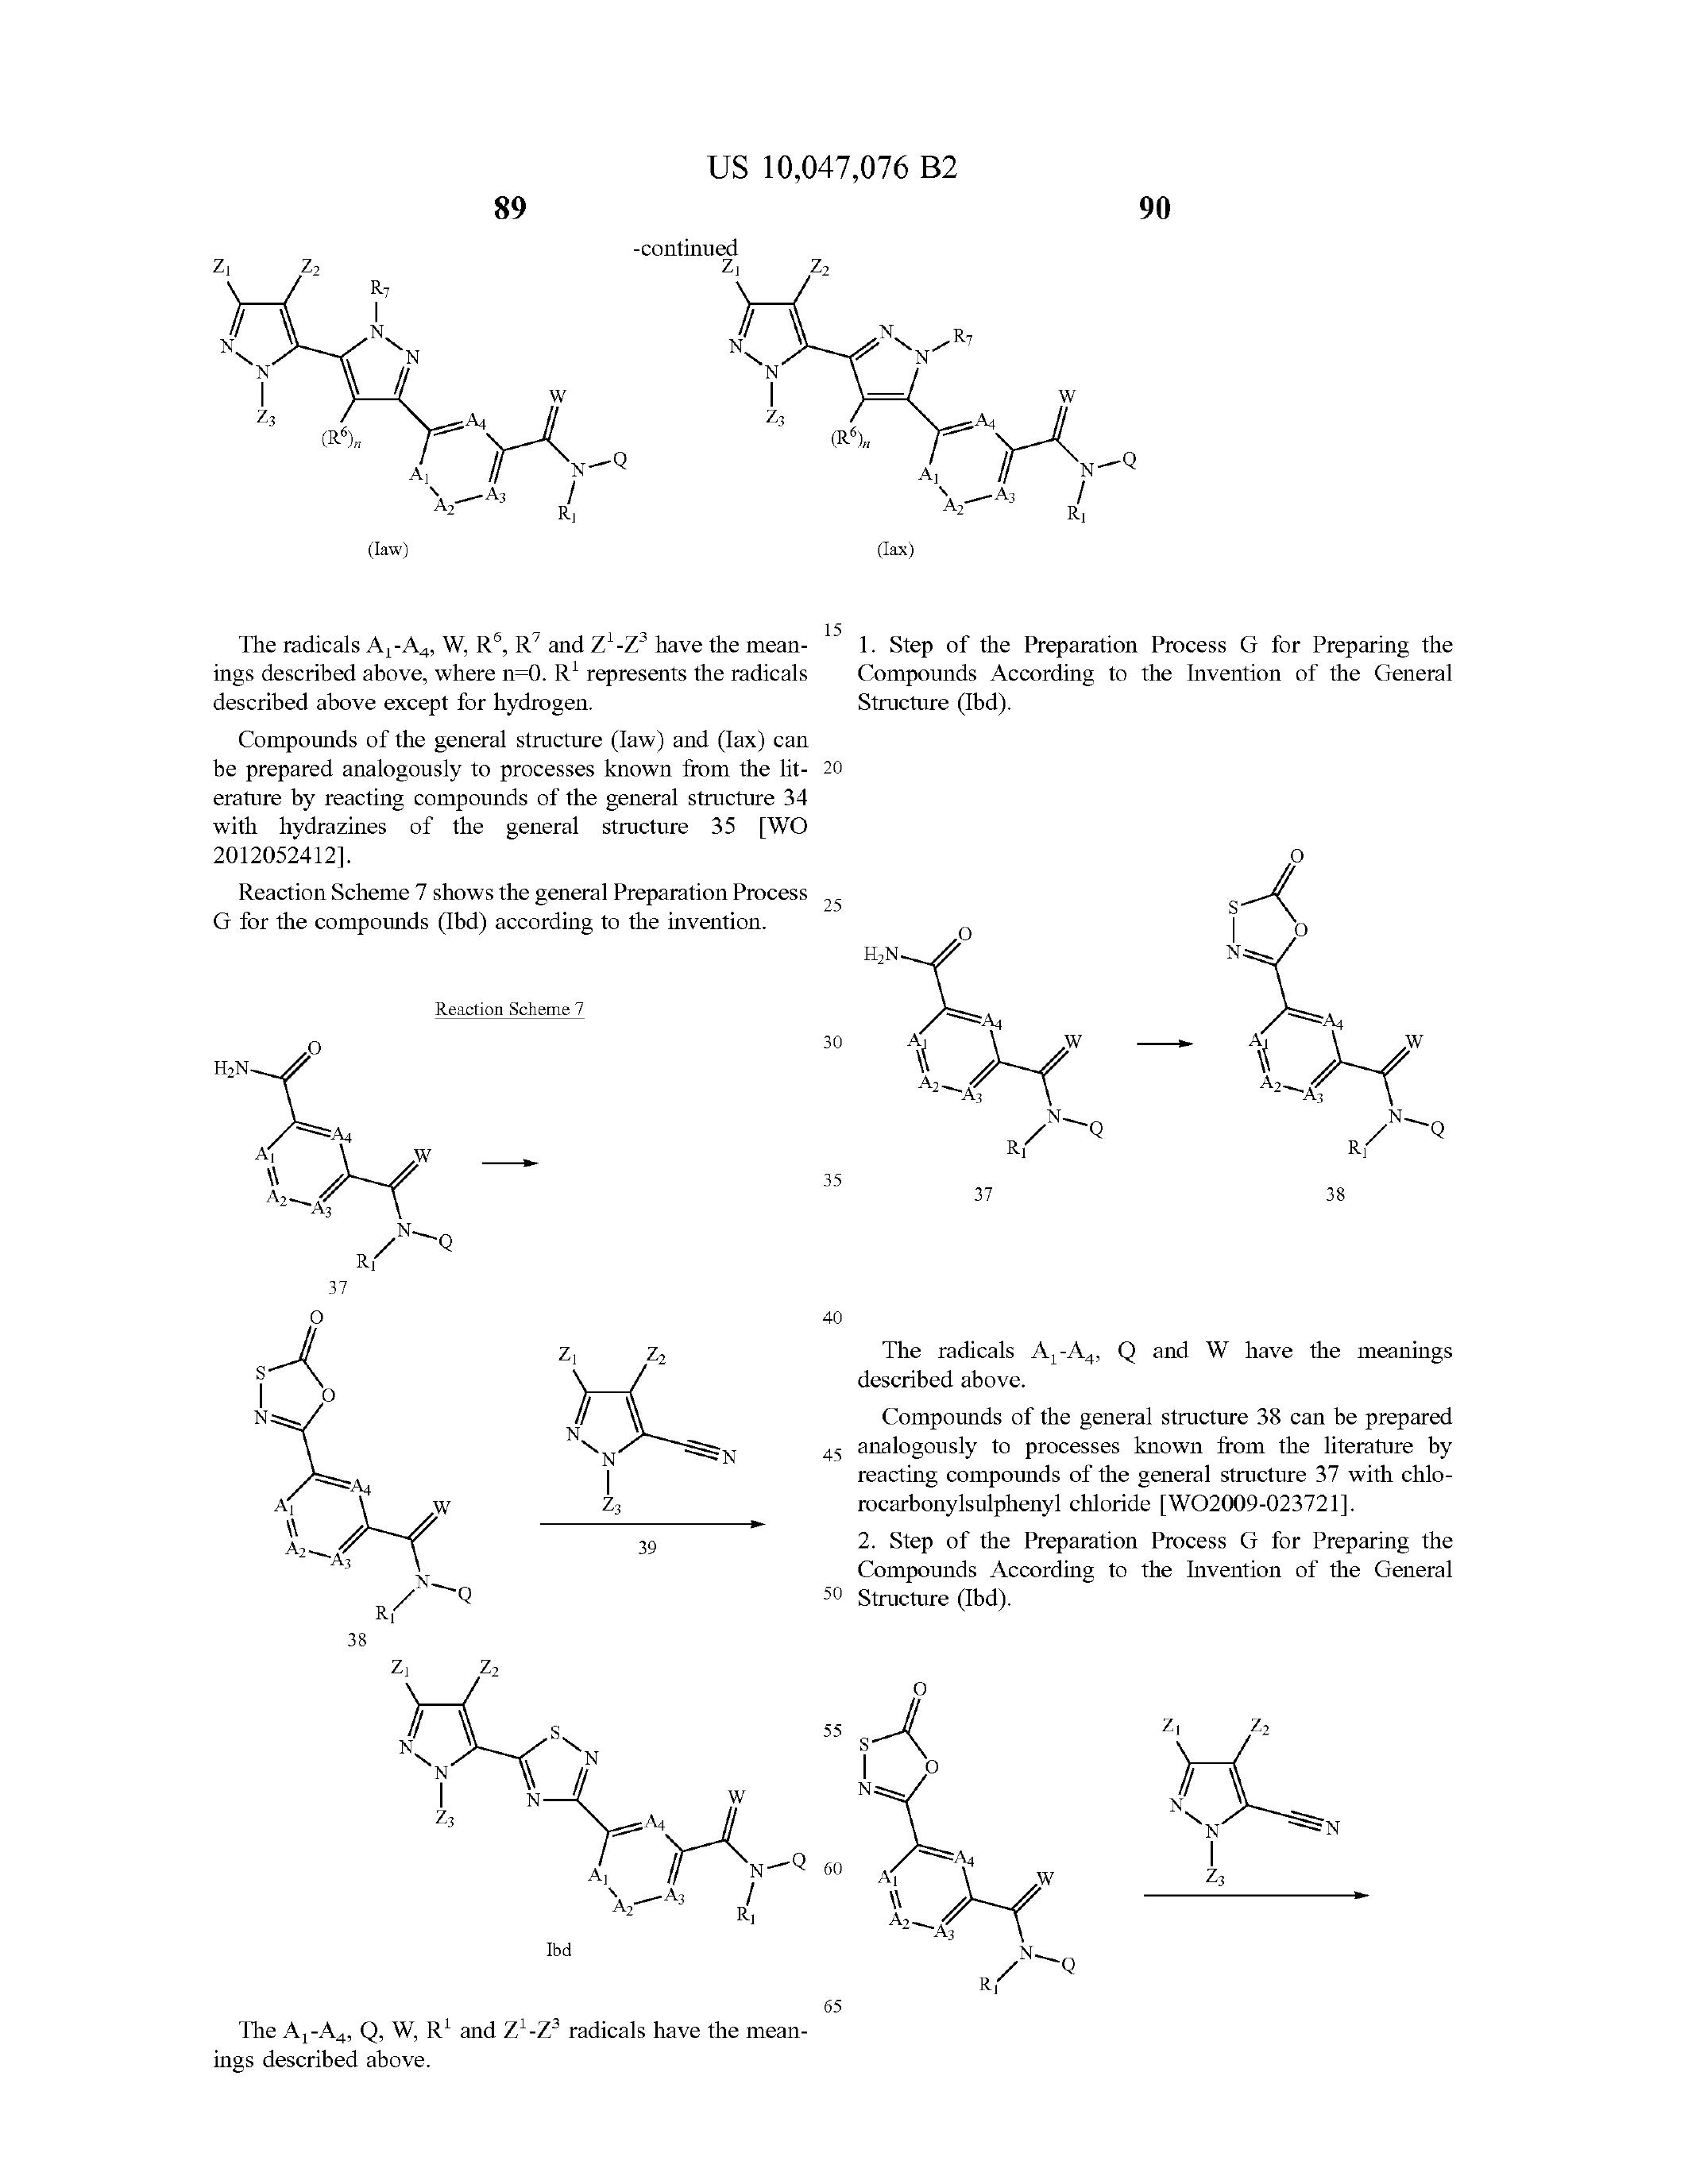reactions: (152, 1032, 805, 1955)
